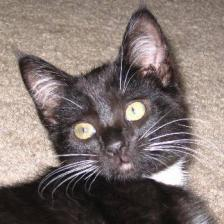cat: (17, 10, 197, 182)
